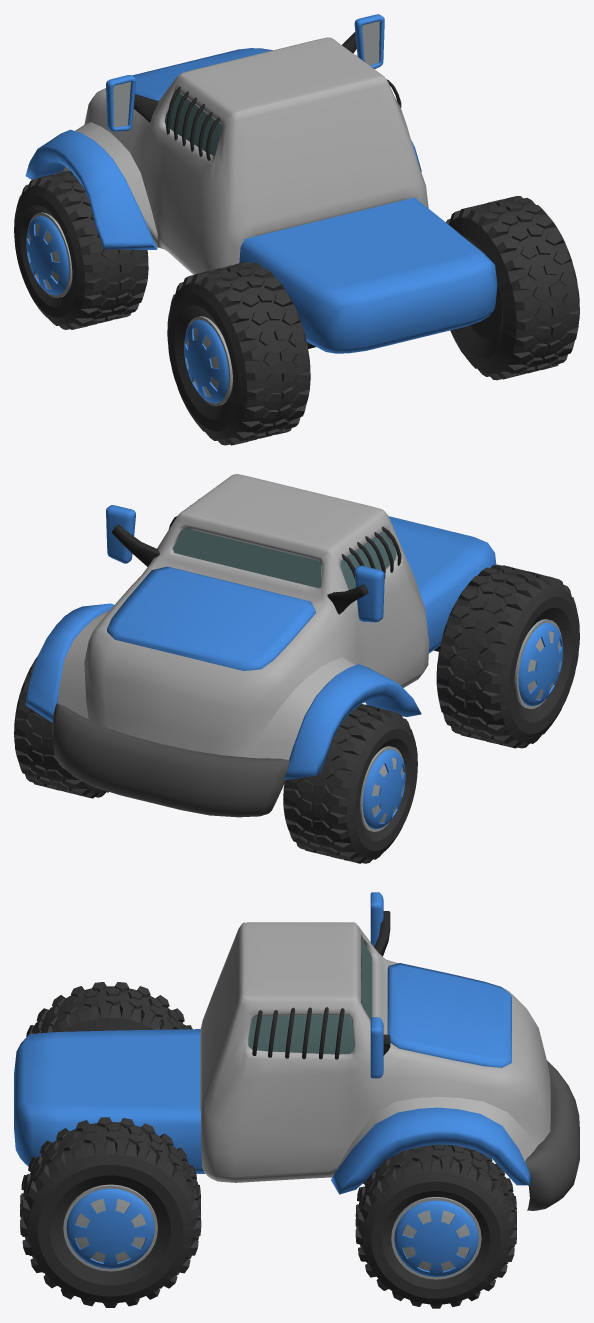
The model's file is Truck_basic.fbx.
3 renders of one model, top to bottom at view 1: azimuth 30°, elevation 25°; view 2: azimuth 150°, elevation 25°; view 3: azimuth 270°, elevation 25°, orthographic. The views are drawn at different scales.
Parts seen in each view (by area): view 1: Truck, TruckBackWheel, TruckFrontLeftWheel; view 2: Truck, TruckBackWheel, TruckFrontLeftWheel, TruckFrontRightWheel; view 3: Truck, TruckBackWheel, TruckFrontRightWheel.
Boxes of the visible parts, box(x1,y1,x2,y2) form: Truck: box(25, 14, 497, 353); TruckBackWheel: box(167, 196, 579, 445); TruckFrontLeftWheel: box(14, 170, 148, 329); Truck: box(25, 474, 496, 817); TruckBackWheel: box(433, 564, 579, 748); TruckFrontLeftWheel: box(283, 704, 417, 863); TruckFrontRightWheel: box(14, 656, 108, 798); Truck: box(14, 892, 579, 1210); TruckBackWheel: box(20, 982, 201, 1307); TruckFrontRightWheel: box(355, 1144, 516, 1308).
Size of the model in its own units: 293 by 206 by 393.
